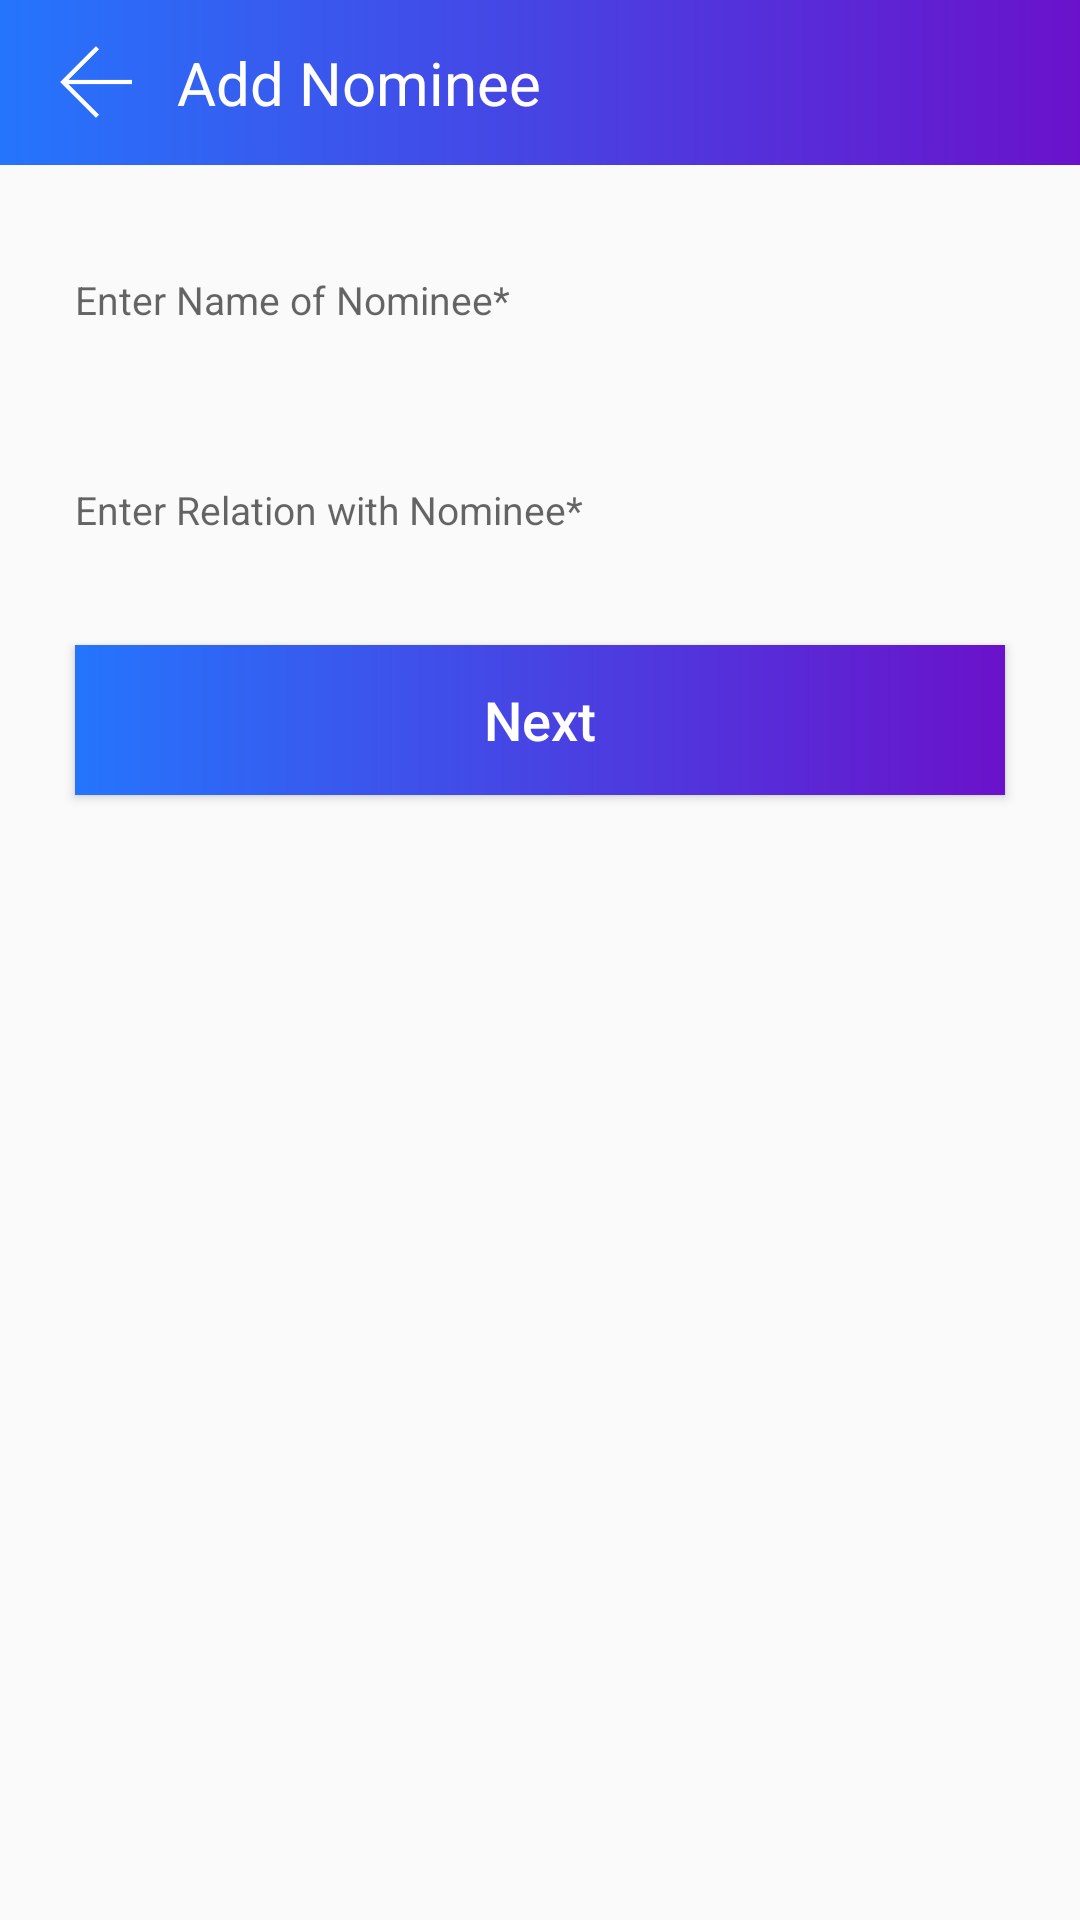

Where icons sit on this 1080 × 1920 app screen, as (x1,y1,x2,y2):
back: (60,46,132,118)
